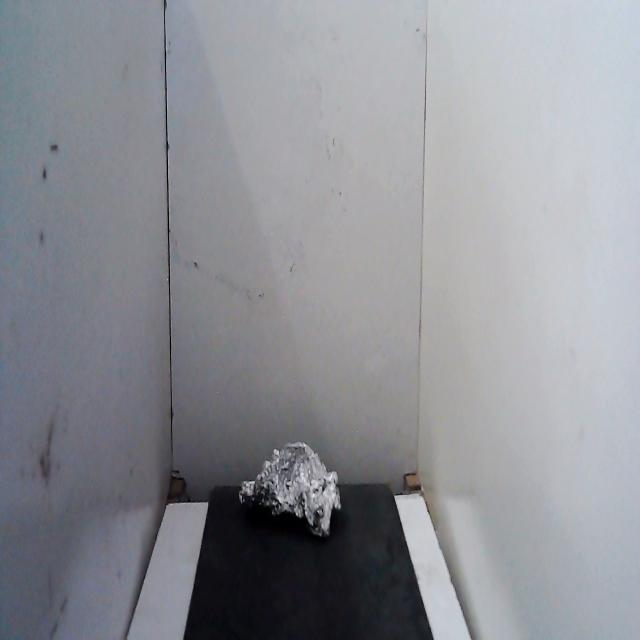metal: (237, 435, 345, 545)
